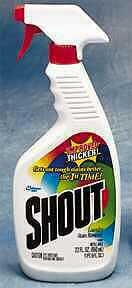grozi_86: (8, 4, 120, 283)
